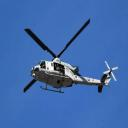helicopter: (25, 19, 119, 102)
